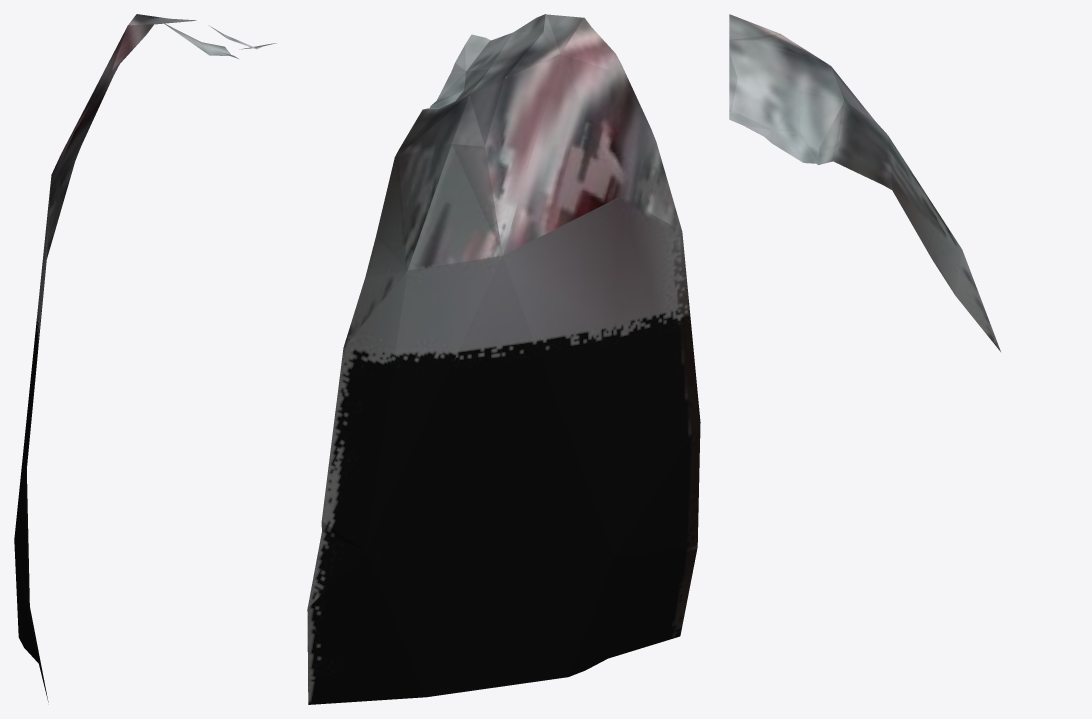
The picture shows the model from 3 angles, left to right: view 1: azimuth 30°, elevation 25°; view 2: azimuth 150°, elevation 25°; view 3: azimuth 270°, elevation 25°; orthographic projection. The views are drawn at different scales.
Size of the model in its own units: 0.6159 by 1.53 by 0.7644.
1 material, 1 textured.
